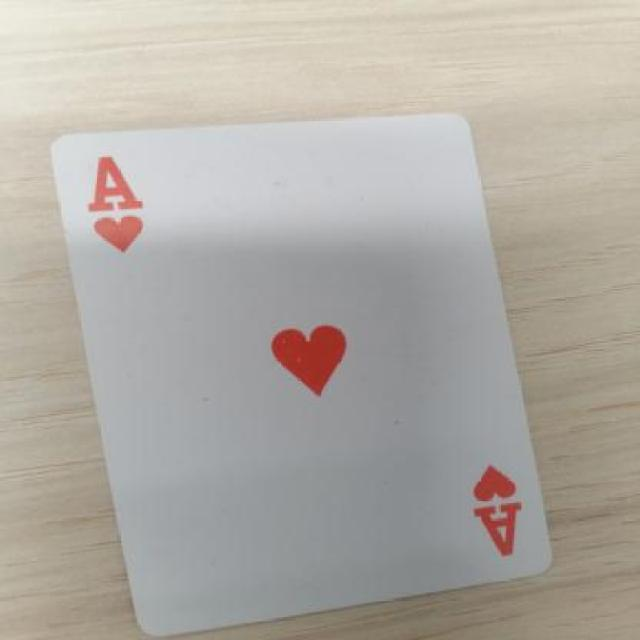AH: (442, 442, 548, 582), (79, 139, 159, 272)
